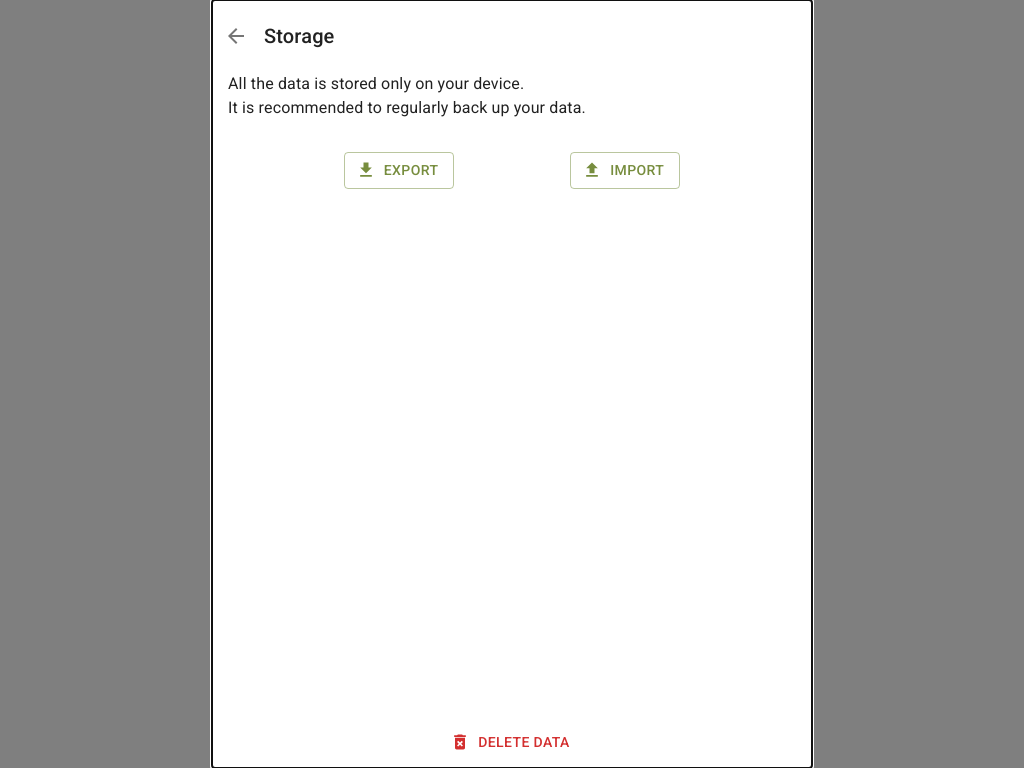
DeleteDataButton › keeps the data when the deletion is cancelled
Click the button "Delete data". click: (512, 742)
box: [446, 724, 578, 760]
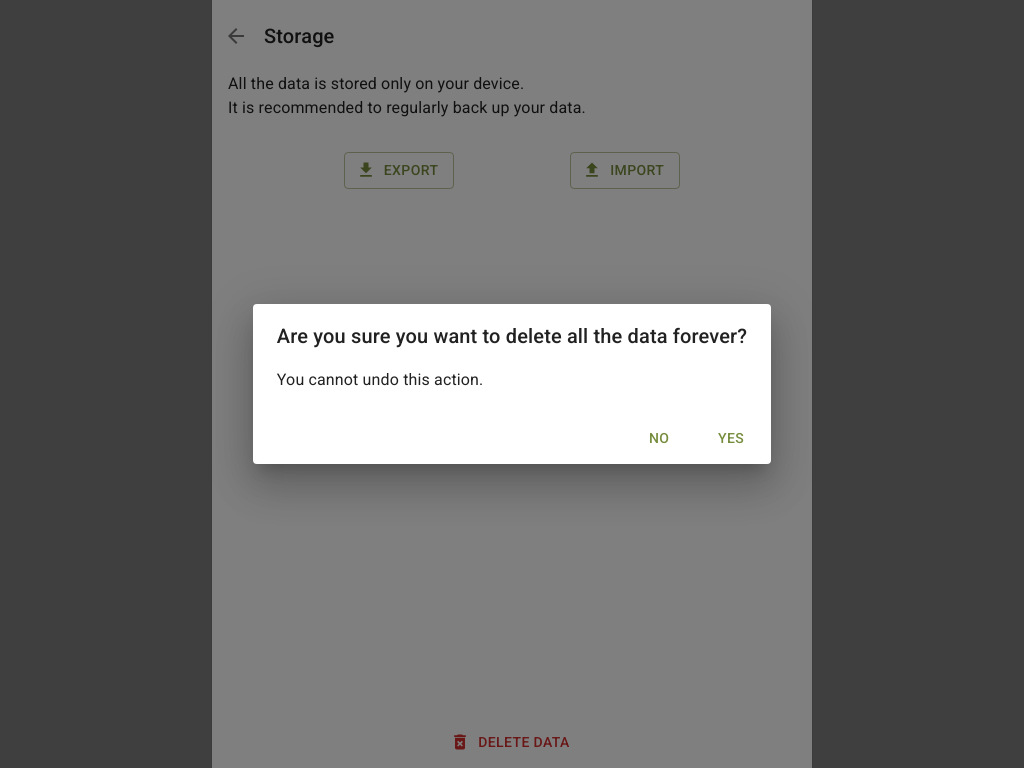
Result: the heading "Are you sure you want to delete all the data forever?" is shown at [277, 324, 747, 348]
Click the button "No". click: (659, 438)
box: [627, 420, 691, 456]
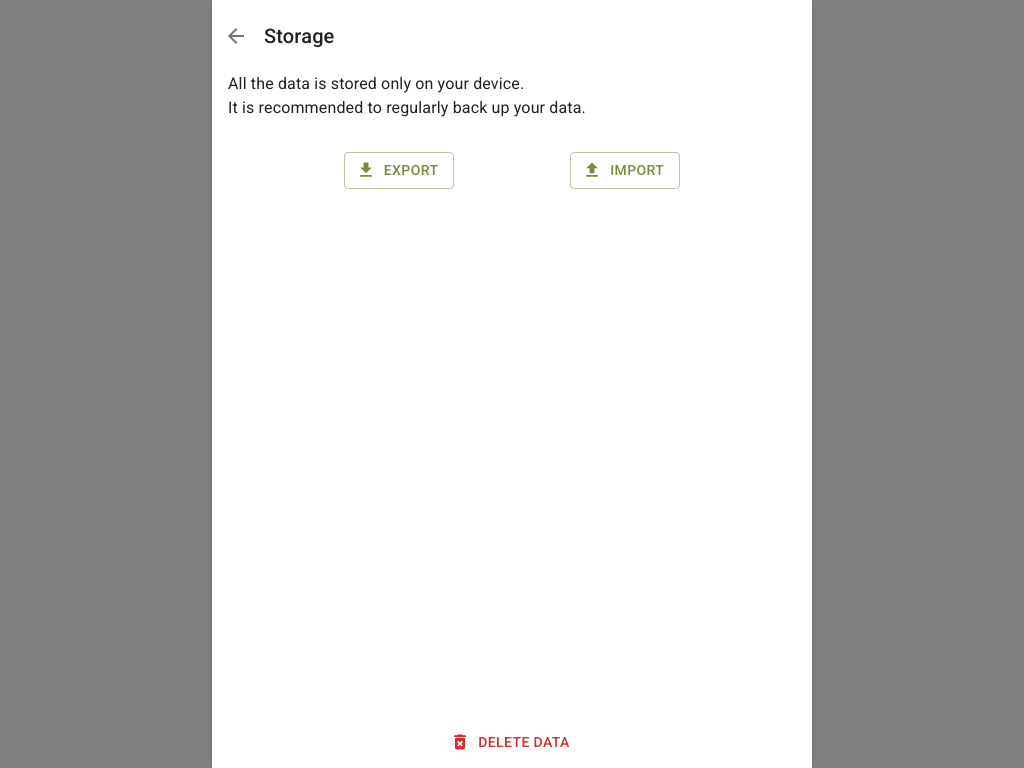
Result: the heading "Are you sure you want to delete all the data forever?" is gone
